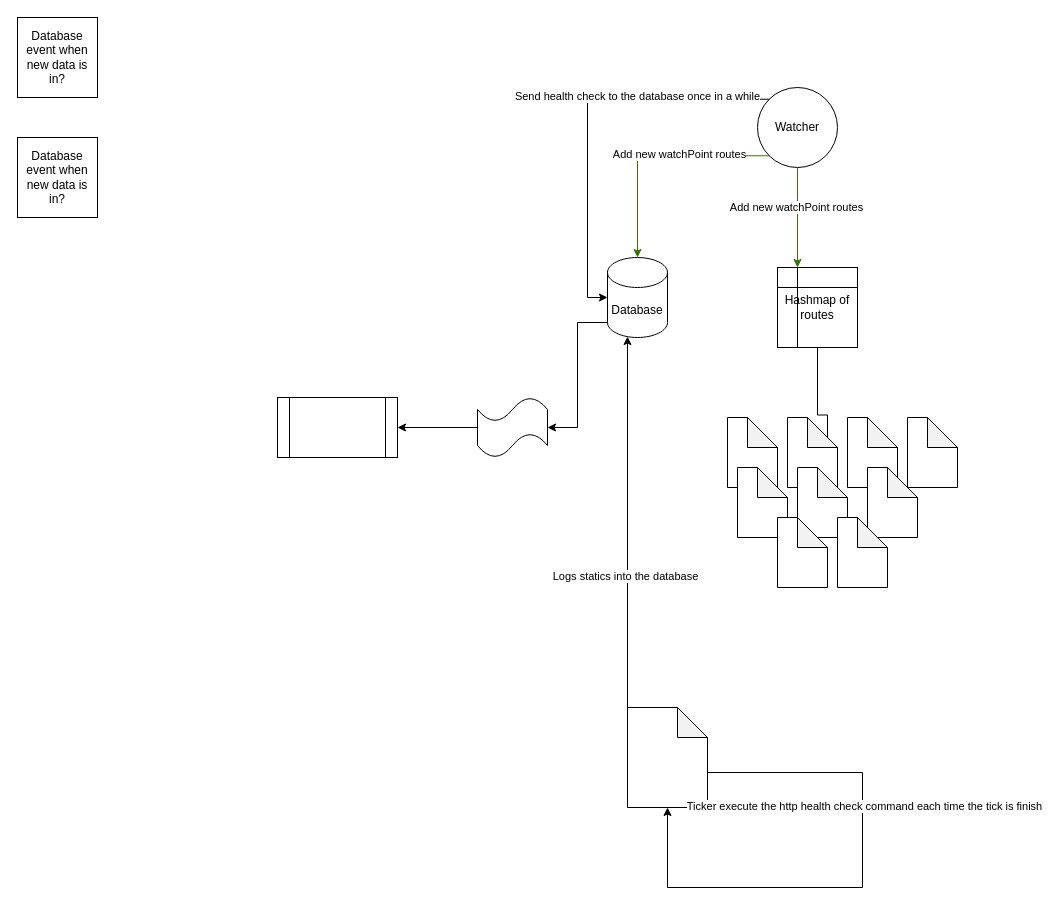
Some shapes in this 1059 by 913 pixel diagram are drawn without their labels. The shapes that lost their labels are listed below. From the top down, each one's box as (x1, y1, x2, y2) in pixels, then its label:
(276, 396, 398, 458): Client
(796, 466, 848, 538): Tickers for each routes
